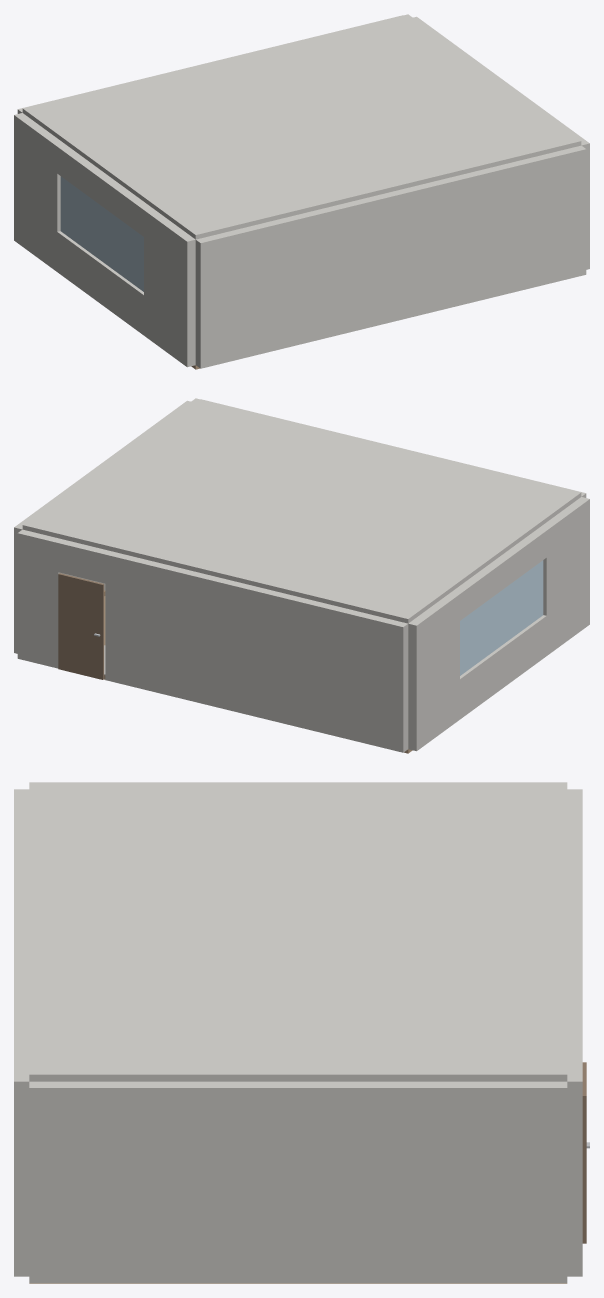
Rendered from Apartment_Room.fbx.
3 renders of one model, top to bottom at view 1: azimuth 30°, elevation 25°; view 2: azimuth 150°, elevation 25°; view 3: azimuth 270°, elevation 25°, orthographic. The views are drawn at different scales.
Parts seen in each view (by area): view 1: Apartment_Room_Mesh; view 2: Apartment_Room_Mesh; view 3: Apartment_Room_Mesh.
Boxes of the visible parts, x1,y1,x2,y2 form: Apartment_Room_Mesh: [14, 14, 589, 369]; Apartment_Room_Mesh: [14, 398, 589, 753]; Apartment_Room_Mesh: [14, 782, 589, 1283].
Bounding box in the file's own units: 9.4 × 7.5 × 3.
